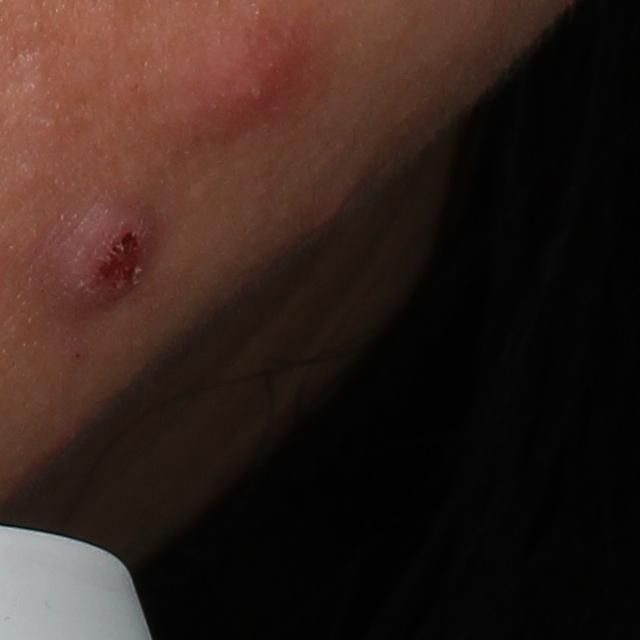nodule: (172, 9, 327, 143), (33, 179, 162, 324)
